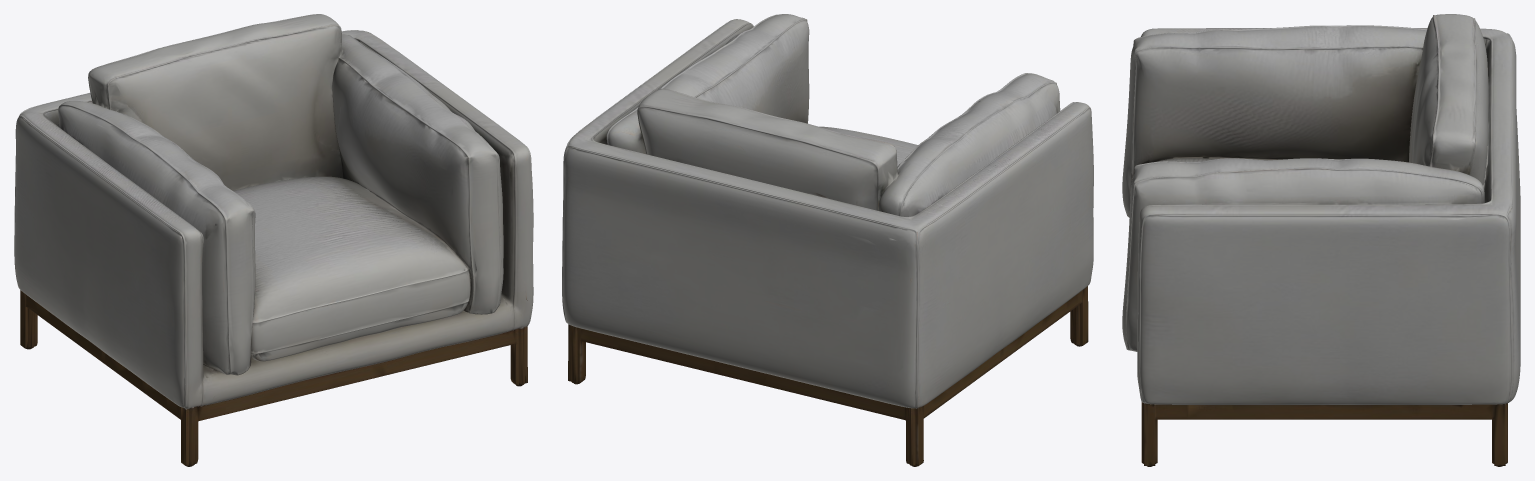
File: armchair-real-castlery-owen-armchair-walnut-wood.glb
The picture shows the model from 3 angles, left to right: view 1: azimuth 30°, elevation 25°; view 2: azimuth 150°, elevation 25°; view 3: azimuth 270°, elevation 25°; orthographic projection. The views are drawn at different scales.
Visible parts, largest first — view 1: convert; view 2: convert; view 3: convert.
Part boxes in pixels (left/top/right/bottom): convert: left=14, top=14, right=533, bottom=466; convert: left=562, top=14, right=1093, bottom=466; convert: left=1122, top=14, right=1520, bottom=466.
Bounding box in the file's own units: 0.8305 × 0.6231 × 0.7258.
1 material, 1 textured.
